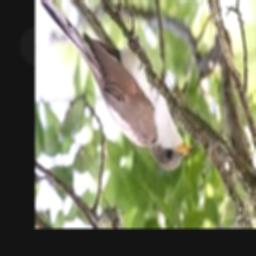Cuckoo: (40, 0, 195, 168)
